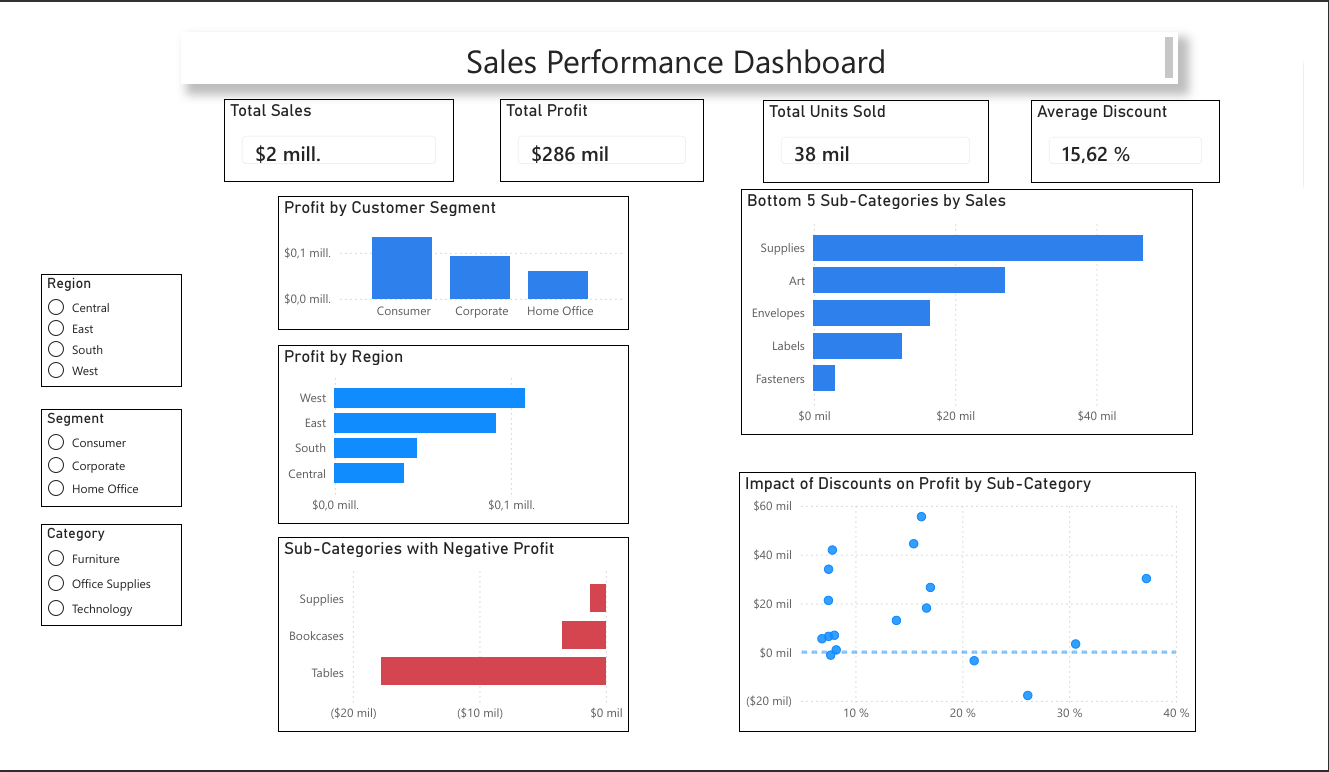

What the dashboard file says about the page in this screenshot:
{"tool":"powerbi","page":{"name":"Página 1","canvas":[1280,720],"ordinal":0},"visuals":[{"type":"cardVisual","title":"Total Sales","fields":{"Data":["Sum(SampleSuperstore1.Sales)"]},"box":[199.7,72.5,230.1,83.3],"z":0},{"type":"cardVisual","title":"Total Profit","fields":{"Data":["Sum(SampleSuperstore1.Profit)"]},"box":[475.5,72.5,204.2,83.3],"z":1000},{"type":"cardVisual","title":"Total Units Sold","fields":{"Data":["Sum(SampleSuperstore1.Quantity)"]},"box":[739.2,73.9,225.7,82.7],"z":2000},{"type":"cardVisual","title":"Average Discount","fields":{"Data":["Avg(SampleSuperstore1.Discount)"]},"box":[1006.7,73.9,189.7,82.7],"z":3000},{"type":"clusteredColumnChart","title":"Profit by Customer Segment","fields":{"Category":["SampleSuperstore1.Segment"],"Y":["Sum(SampleSuperstore1.Profit)"]},"box":[253.9,170.2,351.1,134.2],"z":4000},{"type":"clusteredBarChart","title":"Profit by Region","fields":{"Category":["SampleSuperstore1.Region"],"Y":["Sum(SampleSuperstore1.Profit)"]},"box":[253.9,319,351.1,179],"z":5000},{"type":"clusteredBarChart","title":"Bottom 5 Sub-Categories by Sales","fields":{"Category":["SampleSuperstore1.Sub-Category"],"Y":["Sum(SampleSuperstore1.Sales)"]},"box":[716.8,163.4,452.3,245.1],"z":6000},{"type":"scatterChart","title":"Impact of Discounts on Profit by Sub-Category","fields":{"X":["Avg(SampleSuperstore1.Discount)"],"Y":["Sum(SampleSuperstore1.Profit)"],"Category":["SampleSuperstore1.Sub-Category"]},"box":[714.9,446.4,457.1,259.7],"z":7000},{"type":"listSlicer","fields":{"Values":["SampleSuperstore1.Region"]},"box":[16.5,248,141,112.8],"z":8000},{"type":"listSlicer","fields":{"Values":["SampleSuperstore1.Segment"]},"box":[16.5,383.2,141,98.2],"z":9000},{"type":"listSlicer","fields":{"Values":["SampleSuperstore1.Category"]},"box":[16.5,498,141,102.1],"z":10000},{"type":"textbox","box":[157.6,6.8,997,52.5],"z":11000},{"type":"clusteredBarChart","title":"Sub-Categories with Negative Profit","fields":{"Category":["SampleSuperstore1.Sub-Category"],"Y":["Sum(SampleSuperstore1.Profit)"]},"box":[253.9,510.6,351.1,195.5],"z":11001}]}

Visuals, with their boxes in screenshot pixels (x1, y1, x2, y2):
"Total Sales" cardVisual: (225, 99, 452, 182)
"Total Profit" cardVisual: (497, 99, 699, 182)
"Total Units Sold" cardVisual: (758, 101, 981, 182)
"Average Discount" cardVisual: (1022, 101, 1209, 182)
"Profit by Customer Segment" clusteredColumnChart: (278, 196, 625, 328)
"Profit by Region" clusteredBarChart: (278, 343, 625, 520)
"Bottom 5 Sub-Categories by Sales" clusteredBarChart: (736, 189, 1182, 431)
"Impact of Discounts on Profit by Sub-Category" scatterChart: (734, 469, 1185, 725)
listSlicer - SampleSuperstore1.Region: (44, 273, 183, 384)
listSlicer - SampleSuperstore1.Segment: (44, 406, 183, 503)
listSlicer - SampleSuperstore1.Category: (44, 520, 183, 620)
textbox: (183, 34, 1168, 86)
"Sub-Categories with Negative Profit" clusteredBarChart: (278, 532, 625, 725)
